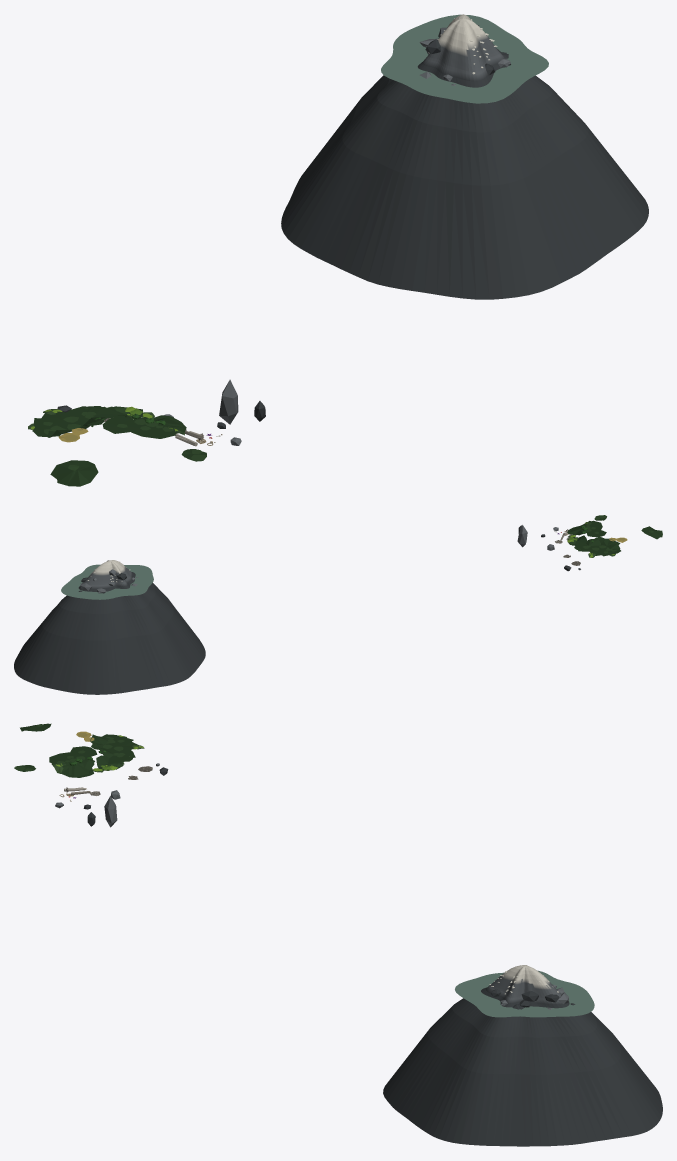
Rendered from chunk_0_-1.glb.
The picture shows the model from 3 angles, top to bottom: view 1: azimuth 30°, elevation 25°; view 2: azimuth 150°, elevation 25°; view 3: azimuth 270°, elevation 25°; orthographic projection. The views are drawn at different scales.
Parts seen in each view (by area): view 1: chunk_0_-1; view 2: chunk_0_-1; view 3: chunk_0_-1.
Part boxes in pixels (x1,y1,x2,y2): chunk_0_-1: (28,14,648,486); chunk_0_-1: (14,515,662,694); chunk_0_-1: (14,723,662,1146).
Size of the model in its own units: 160 by 32.93 by 142.
